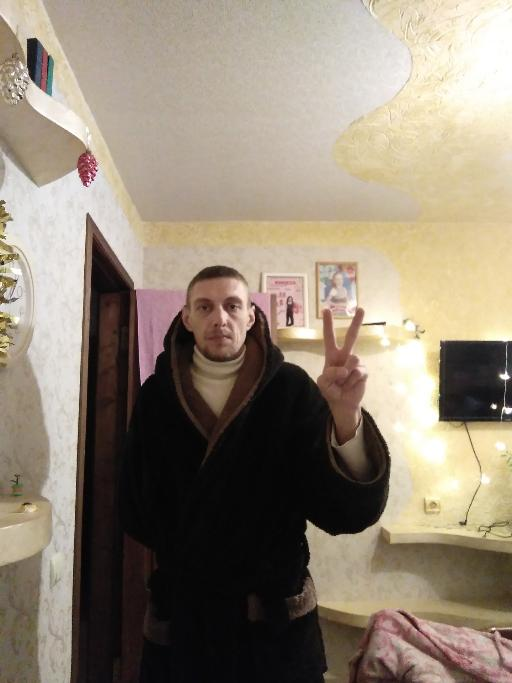peace: (315, 305, 369, 414)
